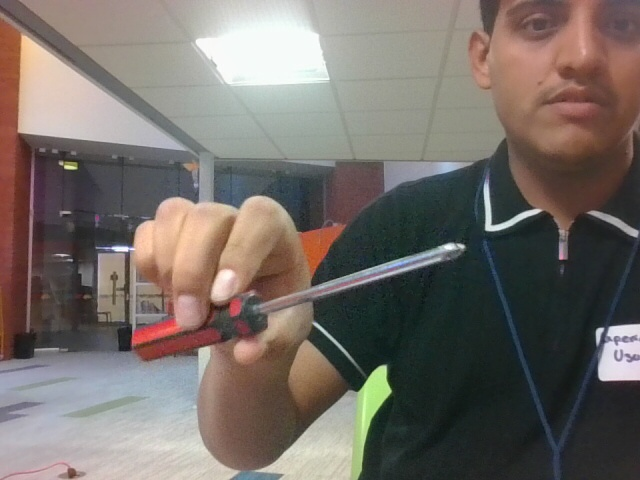destornillador: (136, 243, 464, 360)
